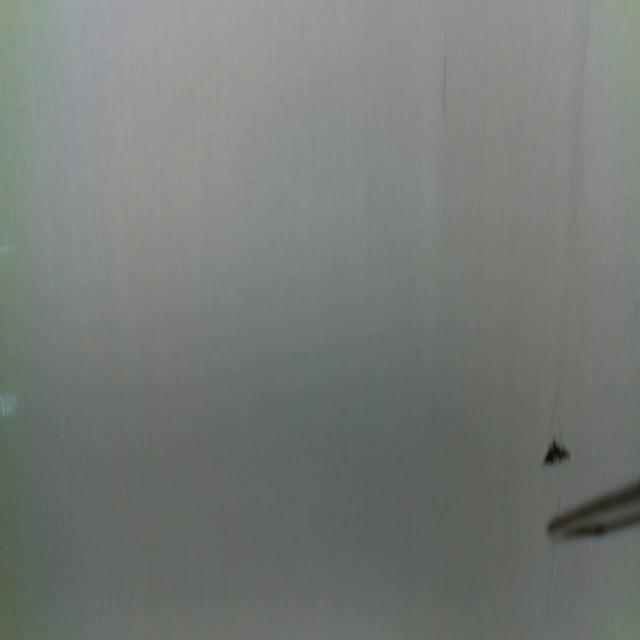hole: (542, 436, 570, 471)
